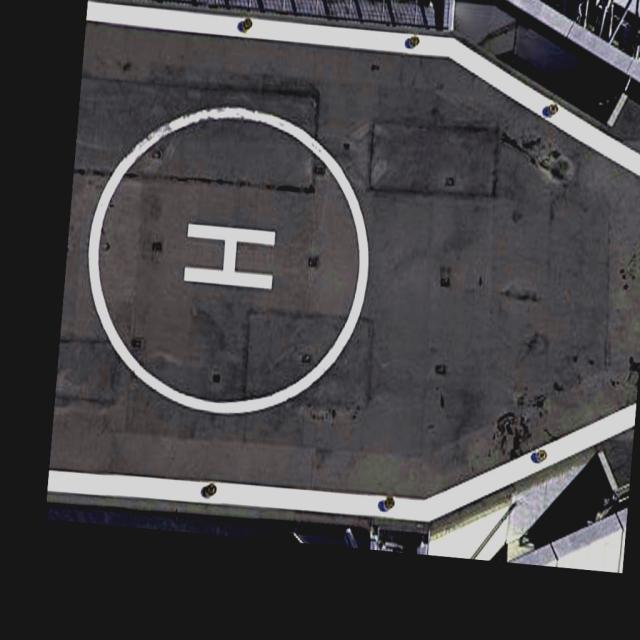helipad: (80, 98, 373, 419)
